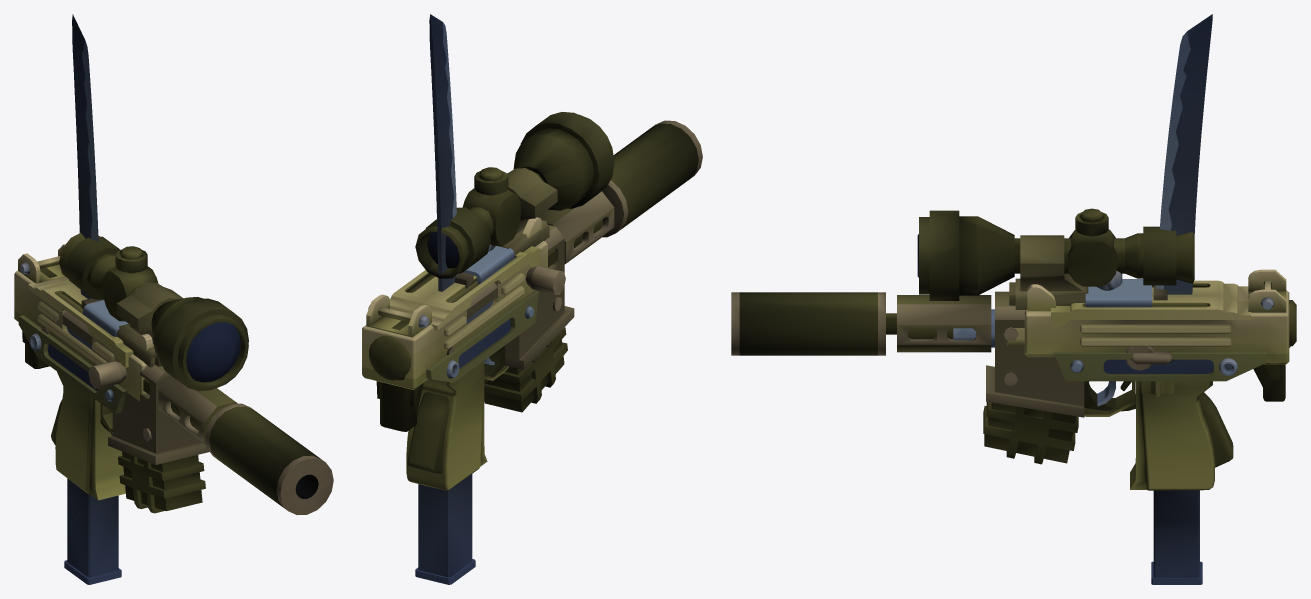
The model's file is BTLMN_Outfit_Weapon_A.glb.
The picture shows the model from 3 angles, left to right: view 1: azimuth 30°, elevation 25°; view 2: azimuth 150°, elevation 25°; view 3: azimuth 270°, elevation 25°; orthographic projection. The views are drawn at different scales.
Visible parts, largest first — view 1: FireArms_Sniper_Rifle_AA05, FireArms_Handgun_SMG_AA04, ColdArms_Katana_NA01; view 2: FireArms_Sniper_Rifle_AA05, FireArms_Handgun_SMG_AA04, ColdArms_Katana_NA01; view 3: FireArms_Sniper_Rifle_AA05, FireArms_Handgun_SMG_AA04, ColdArms_Katana_NA01.
Part boxes in pixels (<box>): FireArms_Sniper_Rifle_AA05: <box>22,232,333,515</box>; FireArms_Handgun_SMG_AA04: <box>14,244,152,584</box>; ColdArms_Katana_NA01: <box>72,14,100,513</box>; FireArms_Sniper_Rifle_AA05: <box>369,112,702,473</box>; FireArms_Handgun_SMG_AA04: <box>362,217,547,584</box>; ColdArms_Katana_NA01: <box>429,14,463,507</box>; FireArms_Sniper_Rifle_AA05: <box>731,208,1296,467</box>; FireArms_Handgun_SMG_AA04: <box>953,269,1289,584</box>; ColdArms_Katana_NA01: <box>1156,14,1212,294</box>.
Bounding box in the file's own units: 0.2453 × 1.43 × 1.31.
Materials: 2 (2 with a texture image).
